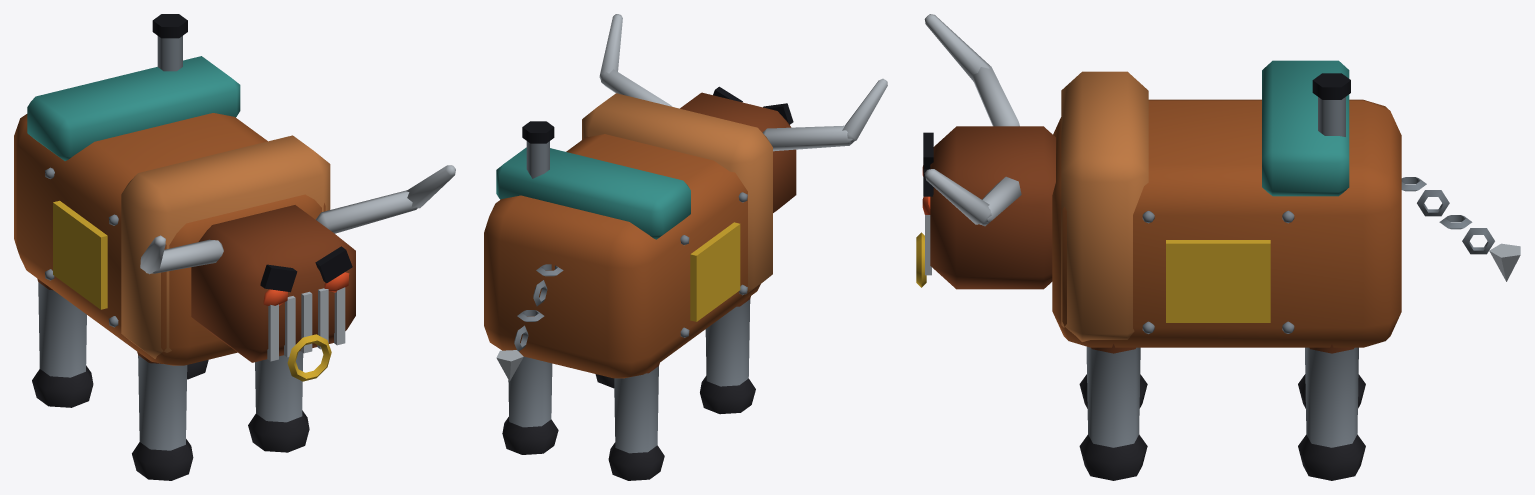
Rendered from e_wueste_rostbulle.glb.
3 renders of one model, left to right at view 1: azimuth 30°, elevation 25°; view 2: azimuth 150°, elevation 25°; view 3: azimuth 270°, elevation 25°, orthographic. The views are drawn at different scales.
Visible parts, largest first — view 1: body; view 2: body; view 3: body.
Boxes of the visible parts, x1=… form: body: x1=14, y1=14, x2=455, y2=480; body: x1=484, y1=14, x2=887, y2=480; body: x1=916, y1=14, x2=1520, y2=480.
Bounding box in the file's own units: 2.18 × 2.42 × 3.46.
